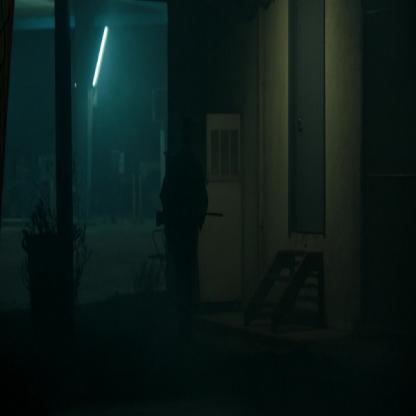Guns: (154, 204, 225, 227)
